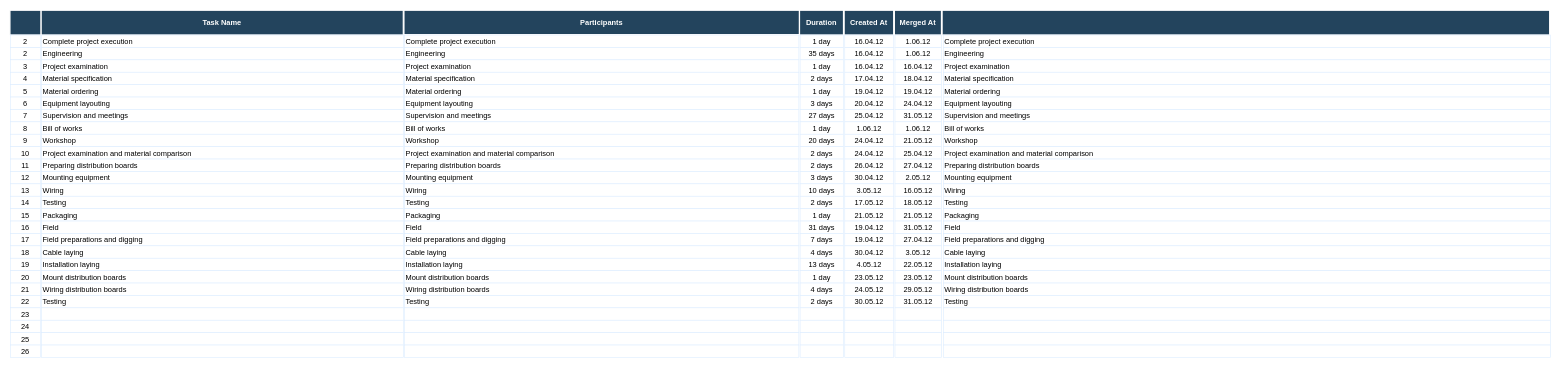
Image size: 1561x368. Some labels were removed from this diagram. The shapes that lost their labels are listed below. From the top down, each one's centre as x and y in pixels, then its label:
pixel 25 22: PR #
pixel 1245 22: Task Details
